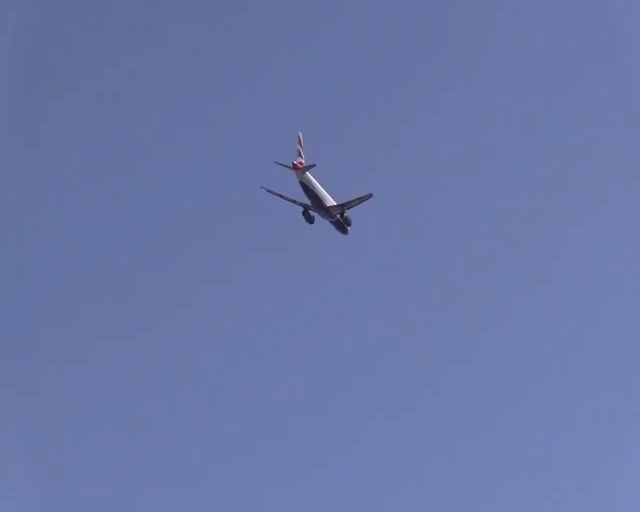AIRPLANE: (260, 130, 373, 234)
